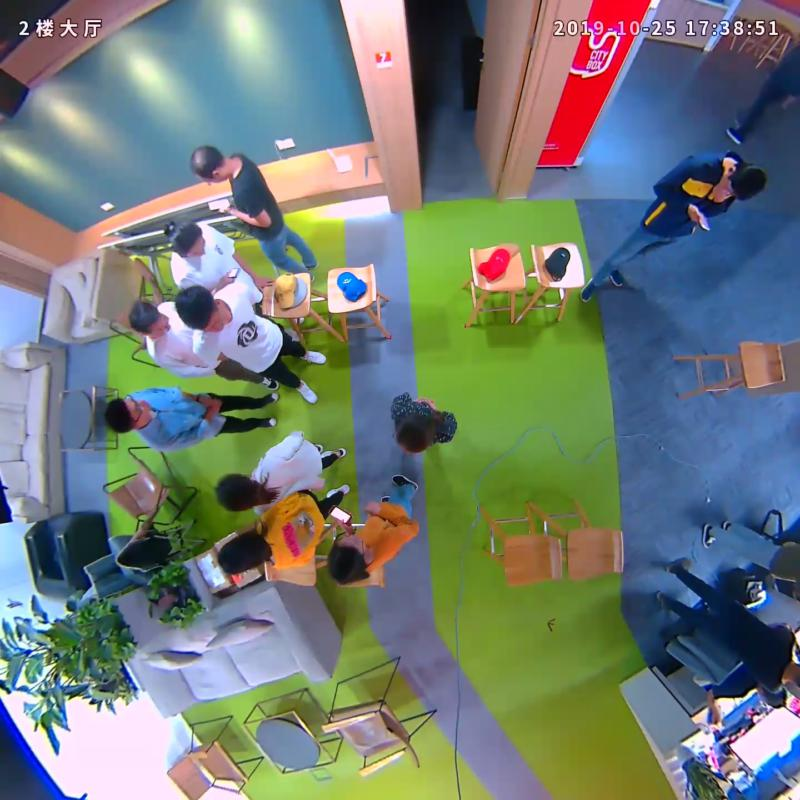head: (174, 283, 223, 334), (327, 532, 372, 583), (105, 393, 153, 434), (718, 163, 767, 200), (392, 412, 435, 453), (215, 473, 257, 513), (129, 299, 169, 339), (190, 145, 231, 184), (217, 537, 257, 574), (169, 222, 206, 259)
